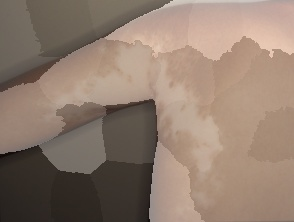vitiligo: (20, 0, 277, 222)
